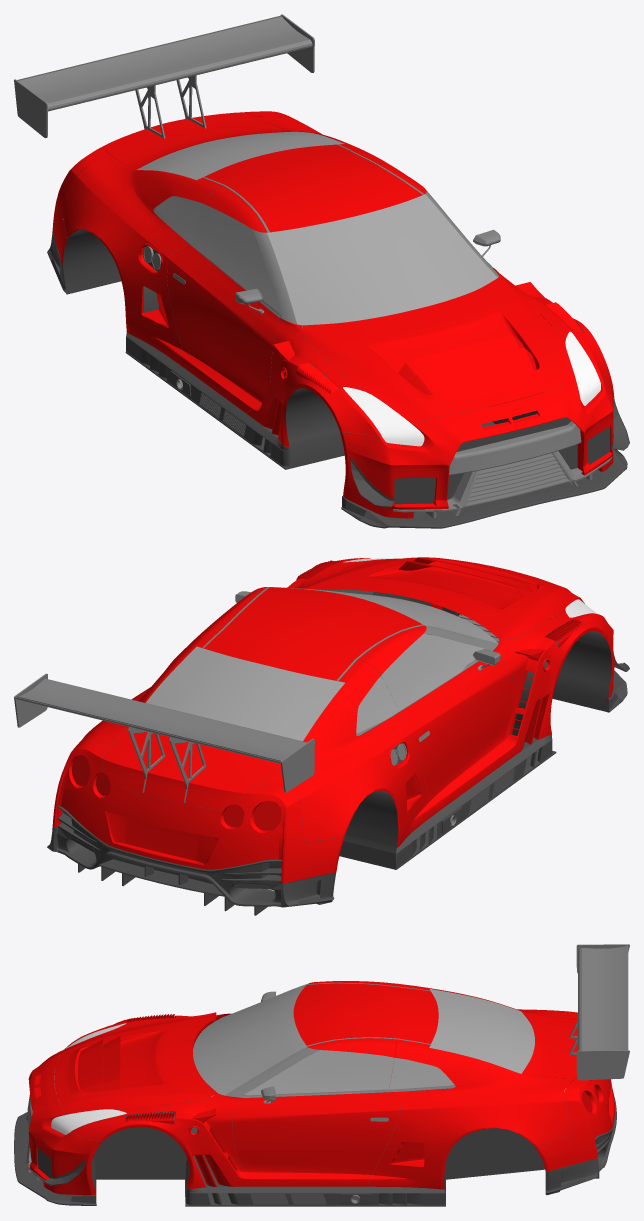
The model's file is Nissan_GTR_Final.fbx.
3 views of the same model, one above another, from view 1: azimuth 30°, elevation 25°; view 2: azimuth 150°, elevation 25°; view 3: azimuth 270°, elevation 25° (orthographic). The views are drawn at different scales.
Parts seen in each view (by area): view 1: Nissan_GTR_Final; view 2: Nissan_GTR_Final; view 3: Nissan_GTR_Final.
Boxes of the visible parts, bbox=[...] form: Nissan_GTR_Final: bbox=[14, 14, 629, 528]; Nissan_GTR_Final: bbox=[14, 557, 629, 915]; Nissan_GTR_Final: bbox=[14, 944, 629, 1206].
Size of the model in its own units: 117 by 77.49 by 277.
